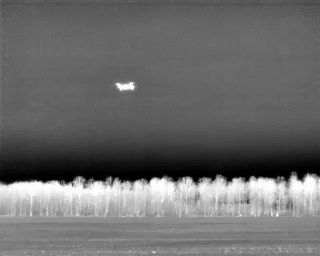DRONE: (111, 77, 139, 96)
